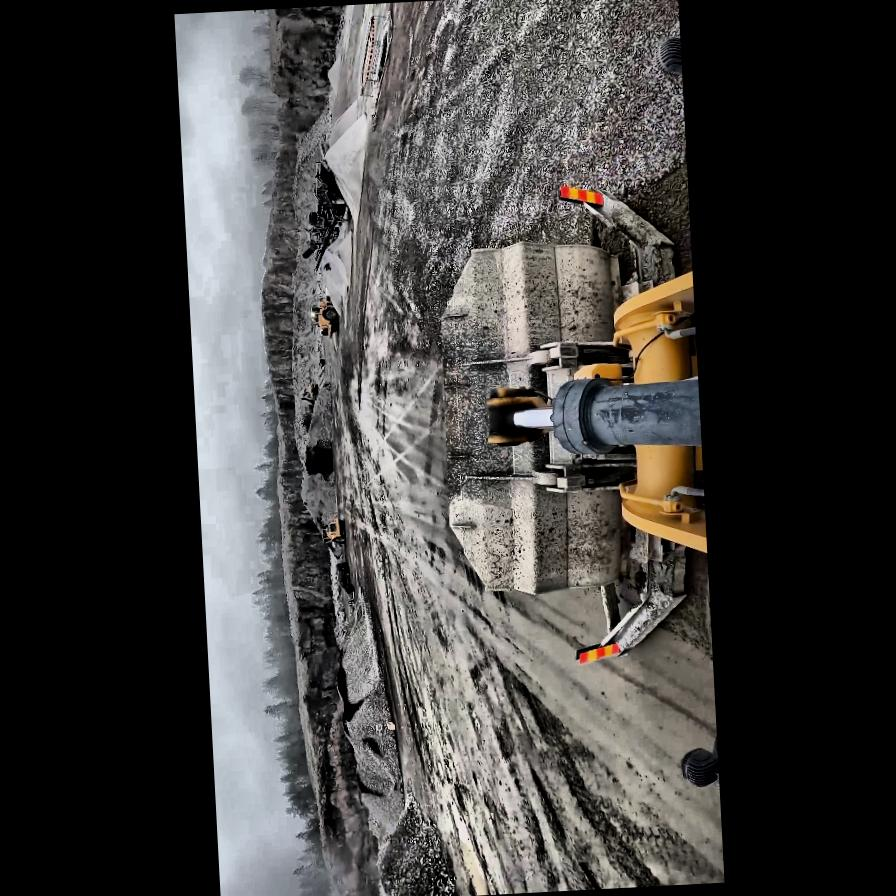anchor: (482, 387, 547, 446)
pile of gravel: (332, 598, 402, 834), (371, 792, 463, 896), (284, 108, 340, 260), (322, 111, 372, 228), (296, 382, 334, 480), (318, 236, 352, 315), (299, 467, 336, 529), (371, 827, 401, 896)
